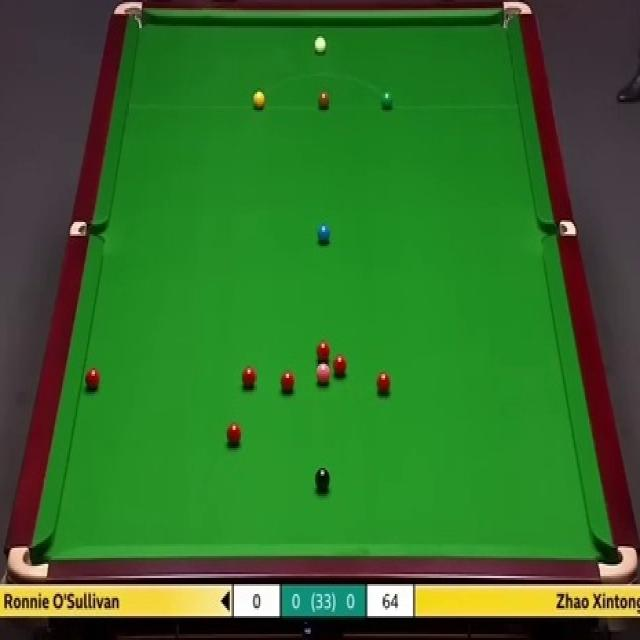black-ball: (316, 467, 332, 490)
blue-ball: (316, 222, 331, 244)
brown-ball: (317, 91, 331, 110)
green-ball: (381, 90, 394, 111)
pink-ball: (315, 362, 332, 387)
red-ball: (225, 421, 242, 446), (279, 370, 296, 394), (376, 372, 392, 396), (332, 354, 348, 378), (85, 368, 102, 390), (242, 366, 256, 390), (316, 340, 331, 361)
white-ball: (315, 34, 329, 55)
yellow-ball: (252, 88, 266, 109)
